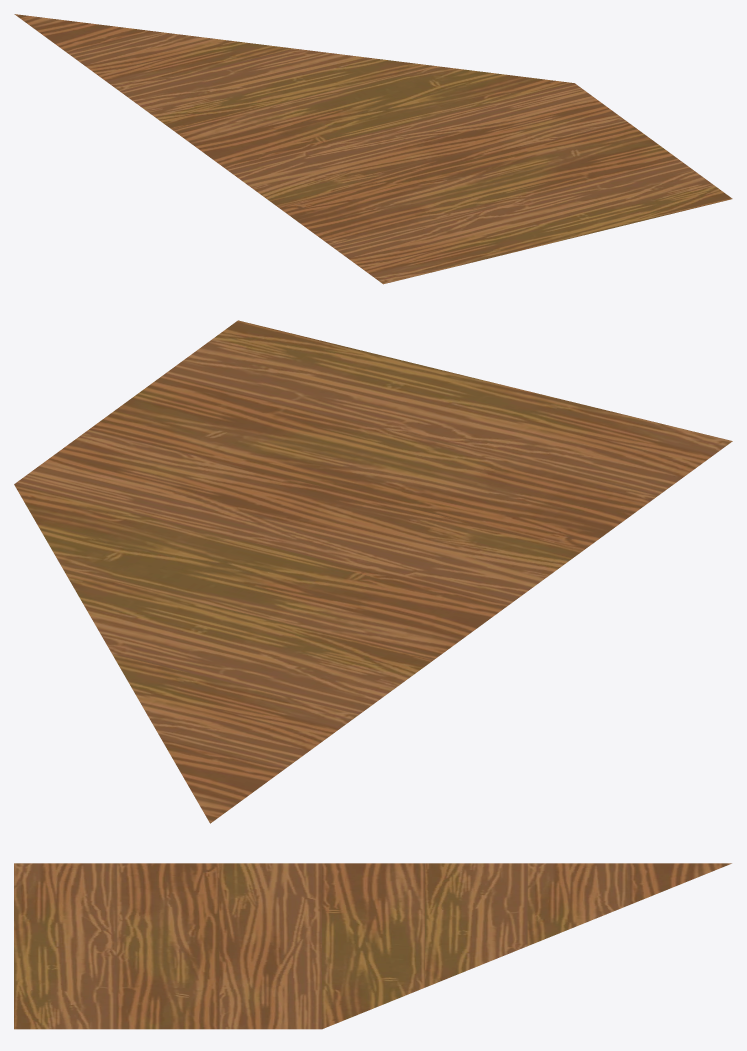
File: floor-woodlight-overhangcorner2.glb
The picture shows the model from 3 angles, top to bottom: view 1: azimuth 30°, elevation 25°; view 2: azimuth 150°, elevation 25°; view 3: azimuth 270°, elevation 25°; orthographic projection. The views are drawn at different scales.
Visible parts, largest first — view 1: Floor_WoodLight_OverhangCorner2; view 2: Floor_WoodLight_OverhangCorner2; view 3: Floor_WoodLight_OverhangCorner2.
Part boxes in pixels (x1,y1,x2,y2): Floor_WoodLight_OverhangCorner2: [14, 14, 732, 284]; Floor_WoodLight_OverhangCorner2: [14, 320, 732, 823]; Floor_WoodLight_OverhangCorner2: [14, 863, 731, 1029].
Bounding box in the file's own units: 0.9566 × 0.02 × 1.75.
Materials: 1 (1 with a texture image).
